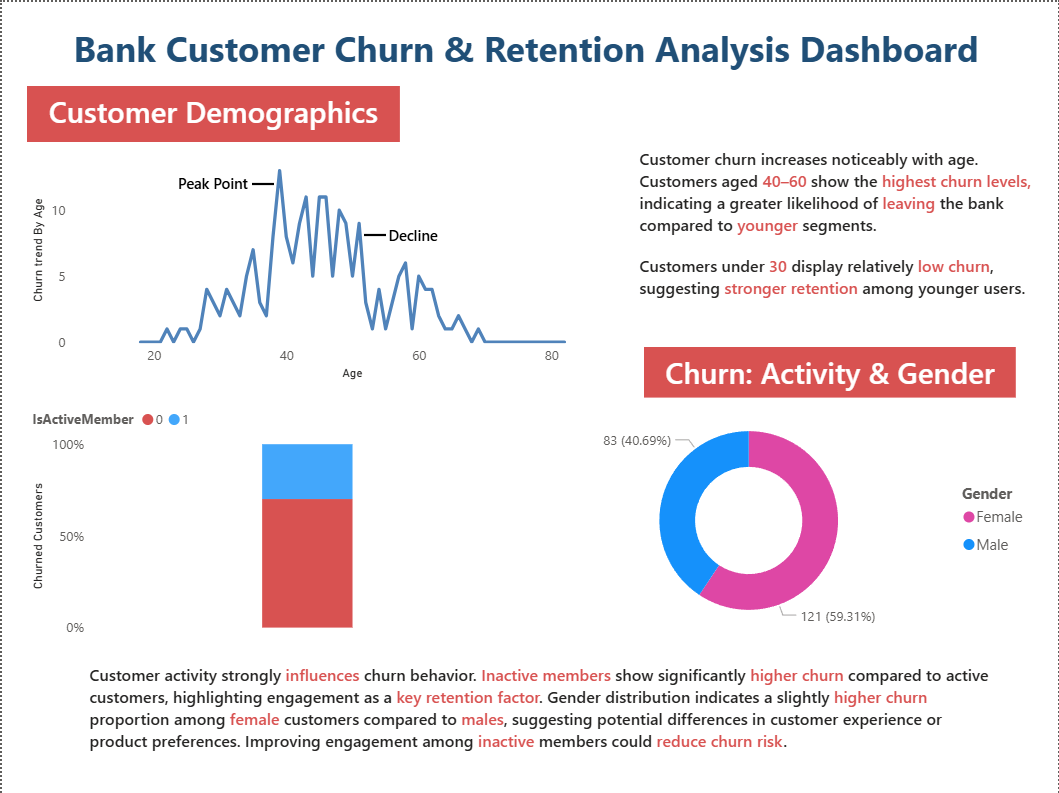

Layout of this report page (visuals, bound fields, positions):
{"tool":"powerbi","page":{"name":"Demographics","canvas":[960,720],"ordinal":1},"visuals":[{"type":"textbox","box":[60,14.4,840,55.8],"z":0},{"type":"textbox","box":[22.8,76.1,338.9,50.7],"z":1000},{"type":"lineChart","fields":{"Category":["Bank_Total_data.Age"],"Y":["churn_gender.Churned Customers"]},"box":[22.7,127.3,551.8,220.9],"z":2000},{"type":"textbox","box":[140,151,103.6,36.4],"z":3000},{"type":"shape","box":[227,140.9,20,49.1],"z":4000},{"type":"shape","box":[329.1,187.3,20,49.1],"z":5000},{"type":"textbox","box":[322,198,103.6,36.4],"z":6000},{"type":"textbox","box":[574.5,127.3,369.1,209.1],"z":7000},{"type":"donutChart","fields":{"Category":["Bank_Total_data.Gender"],"Y":["churn_gender.Churned Customers"]},"box":[480,360,463.6,222.7],"z":8000},{"type":"hundredPercentStackedColumnChart","fields":{"Y":["churn_gender.Churned Customers"],"Series":["Bank_Total_data.IsActiveMember"]},"box":[22.7,360,457.3,222.7],"z":9000},{"type":"textbox","box":[74.5,596.4,840,97.3],"z":10000},{"type":"textbox","box":[583.6,313.6,338.2,46.4],"z":11000}]}

Visuals, with their boxes in screenshot pixels (x1, y1, x2, y2), scaled from the page's 960x720 canvas onto the 1059x793 screenshot:
textbox: 66,16,993,77
textbox: 25,84,399,140
lineChart - Bank_Total_data.Age x churn_gender.Churned Customers: 25,140,634,384
textbox: 154,166,269,206
shape: 250,155,272,209
shape: 363,206,385,260
textbox: 355,218,469,258
textbox: 634,140,1041,371
donutChart - Bank_Total_data.Gender x churn_gender.Churned Customers: 530,397,1041,642
hundredPercentStackedColumnChart - churn_gender.Churned Customers x Bank_Total_data.IsActiveMember: 25,397,530,642
textbox: 82,657,1009,764
textbox: 644,345,1017,397
